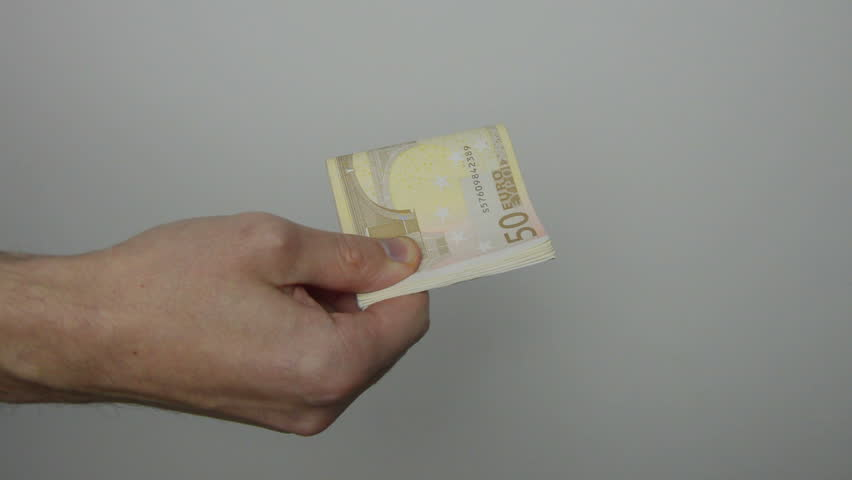billete: (324, 123, 558, 310)
